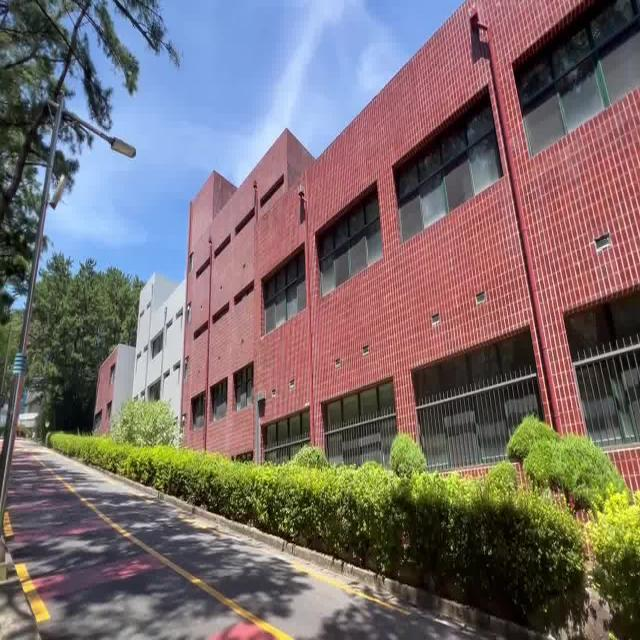building: (142, 49, 633, 400)
